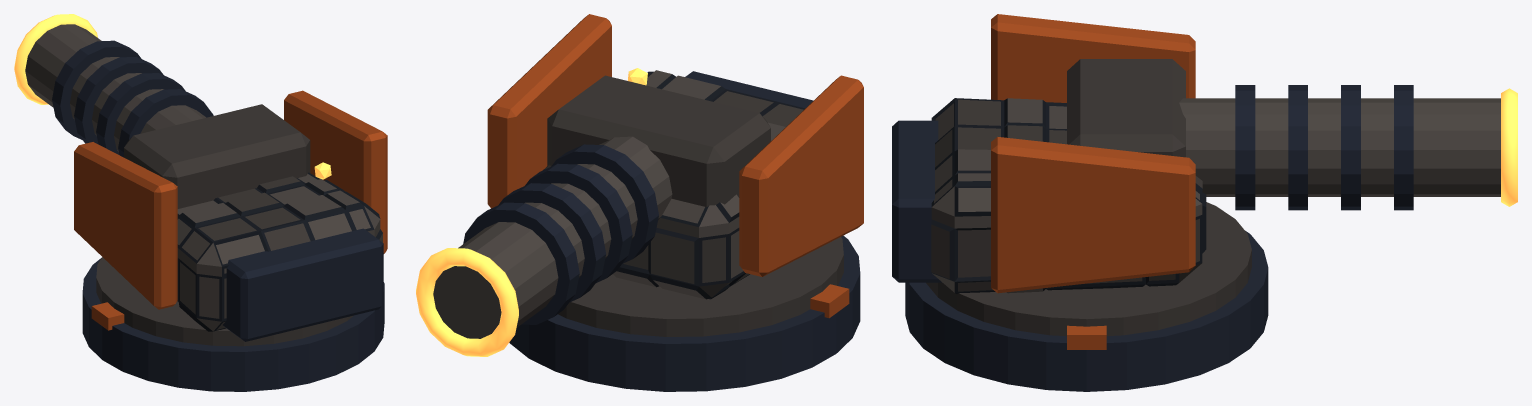
File: turret_pulse_cannons.glb
3 views of the same model, side by side, from view 1: azimuth 30°, elevation 25°; view 2: azimuth 150°, elevation 25°; view 3: azimuth 270°, elevation 25° (orthographic). The views are drawn at different scales.
Parts seen in each view (by area): view 1: Yaw_mesh, Pitch_mesh, Base_mesh; view 2: Pitch_mesh, Yaw_mesh, Base_mesh; view 3: Yaw_mesh, Pitch_mesh, Base_mesh.
Part boxes in pixels (x1=…): Yaw_mesh: x1=74, y1=90, x2=387, y2=341; Pitch_mesh: x1=14, y1=14, x2=310, y2=208; Base_mesh: x1=82, y1=257, x2=384, y2=391; Pitch_mesh: x1=416, y1=75, x2=770, y2=356; Yaw_mesh: x1=487, y1=14, x2=863, y2=299; Base_mesh: x1=509, y1=235, x2=860, y2=391; Yaw_mesh: x1=892, y1=14, x2=1206, y2=293; Pitch_mesh: x1=1067, y1=59, x2=1517, y2=210; Base_mesh: x1=905, y1=202, x2=1268, y2=391.
Size of the model in its own units: 1.12 by 0.7876 by 1.9.
